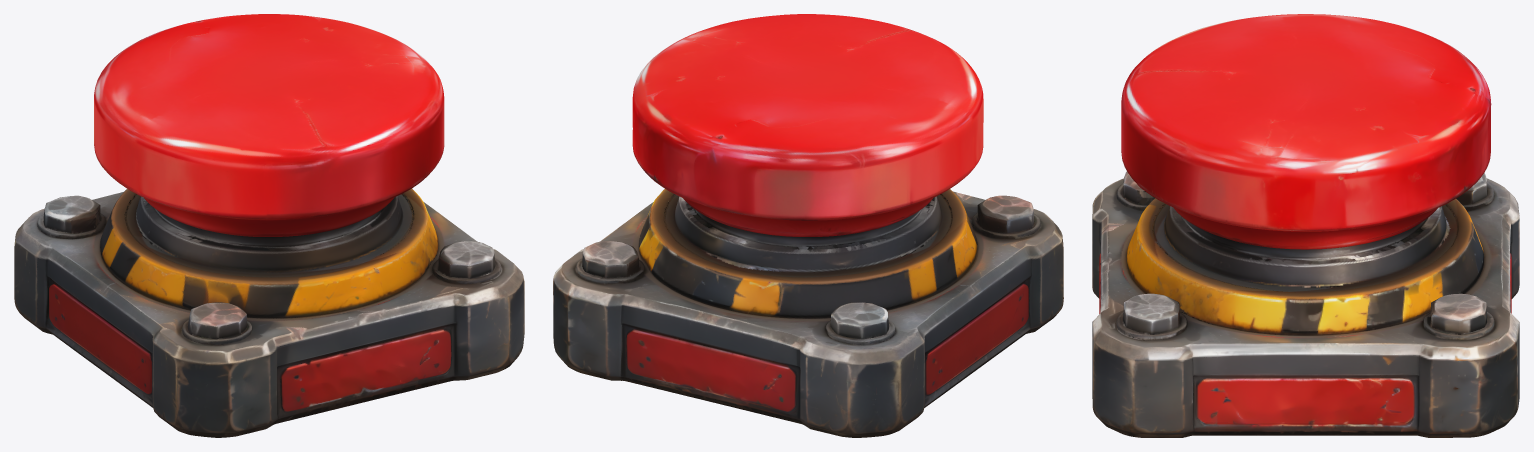
The model's file is base_basic_shaded.glb.
The picture shows the model from 3 angles, left to right: view 1: azimuth 30°, elevation 25°; view 2: azimuth 150°, elevation 25°; view 3: azimuth 270°, elevation 25°; orthographic projection. The views are drawn at different scales.
Visible parts, largest first — view 1: model; view 2: model; view 3: model.
Part boxes in pixels (x1,y1,x2,y2): model: [14, 14, 524, 437]; model: [553, 14, 1063, 437]; model: [1092, 14, 1519, 437].
Size of the model in its own units: 1.9 by 1.35 by 1.91.
Materials: 1 (1 with a texture image).
